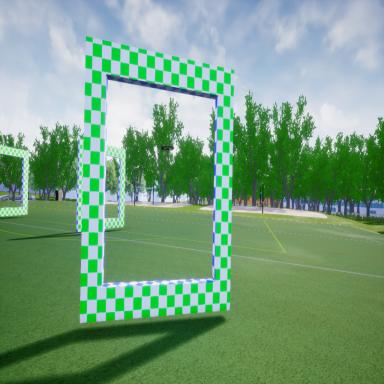gate: (81, 25, 234, 326), (74, 133, 124, 234)
